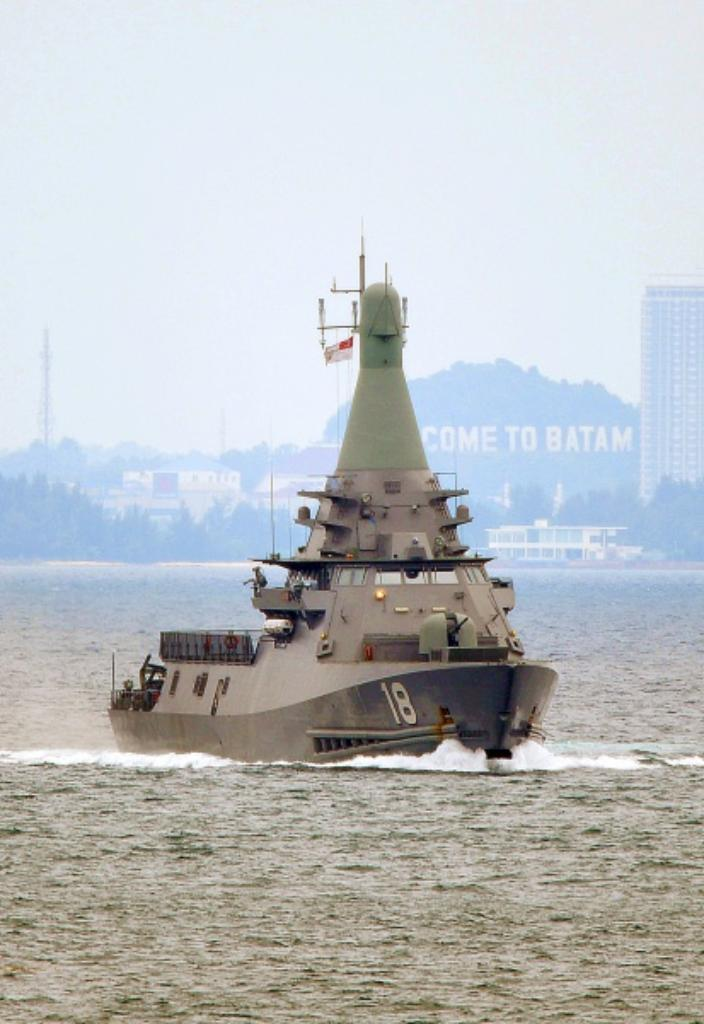Warship: (109, 229, 560, 777)
